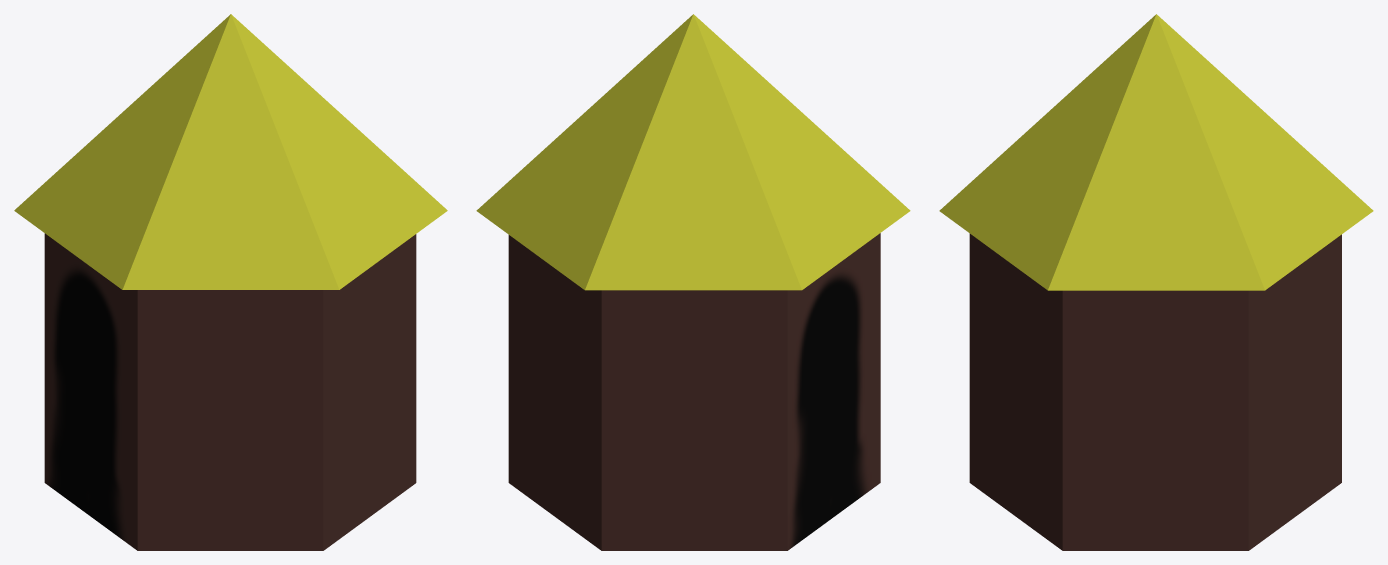
Rendered from hut.dae.
The picture shows the model from 3 angles, left to right: view 1: azimuth 30°, elevation 25°; view 2: azimuth 150°, elevation 25°; view 3: azimuth 270°, elevation 25°; orthographic projection.
Parts seen in each view (by area): view 1: Cylinder.001; view 2: Cylinder.001; view 3: Cylinder.001.
Part boxes in pixels (x1,y1,x2,y2): Cylinder.001: (14, 14, 447, 550); Cylinder.001: (476, 14, 910, 550); Cylinder.001: (939, 14, 1373, 550).
Bounding box in the file's own units: 2.43 × 2.8 × 3.34.
Materials: 2 (2 with a texture image).
